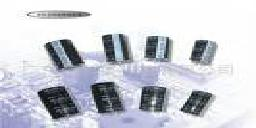Electrolytic Capacitor: (35, 84, 80, 128), (42, 36, 83, 74), (89, 80, 130, 116), (139, 84, 172, 122), (100, 33, 134, 69), (188, 35, 218, 75), (145, 33, 178, 69), (181, 90, 216, 122)
